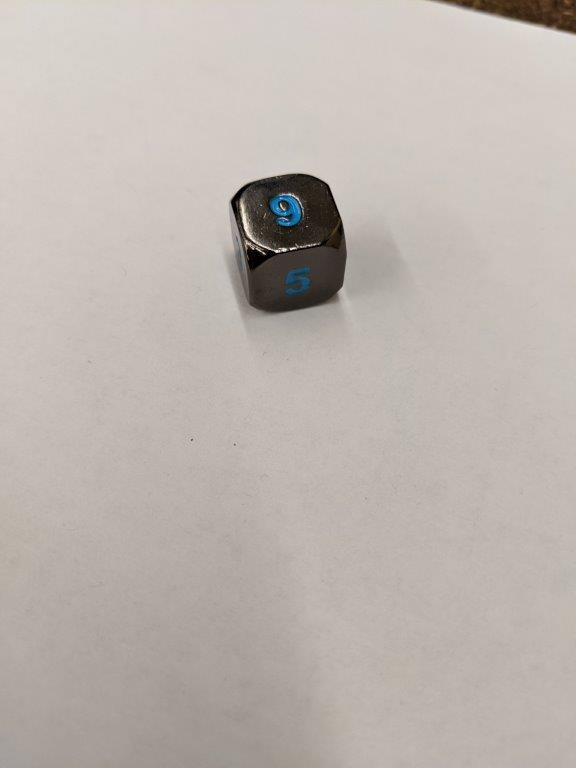d6-6: (229, 172, 349, 312)
